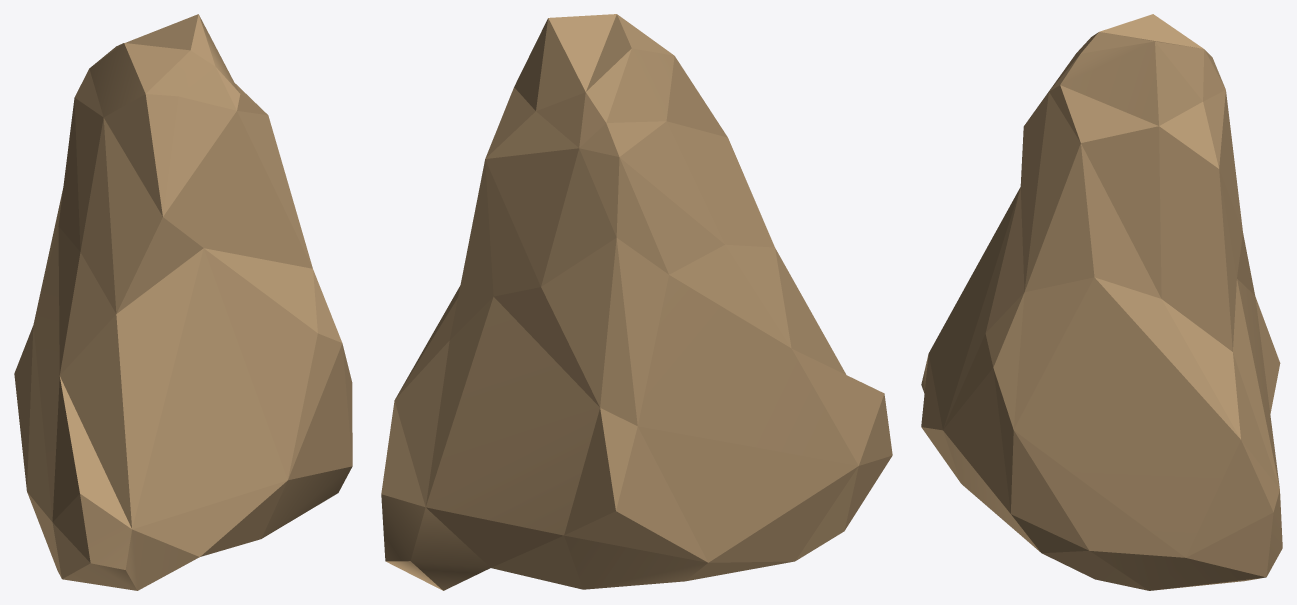
The model's file is Rock_2.fbx.
3 views of the same model, side by side, from view 1: azimuth 30°, elevation 25°; view 2: azimuth 150°, elevation 25°; view 3: azimuth 270°, elevation 25° (orthographic). The views are drawn at different scales.
Parts seen in each view (by area): view 1: SM_Rock; view 2: SM_Rock; view 3: SM_Rock.
Part boxes in pixels (x1,y1,x2,y2): SM_Rock: [14, 14, 352, 590]; SM_Rock: [381, 14, 892, 590]; SM_Rock: [921, 14, 1282, 590].
Size of the model in its own units: 531 by 775 by 494.
Materials: 1 (1 with a texture image).
